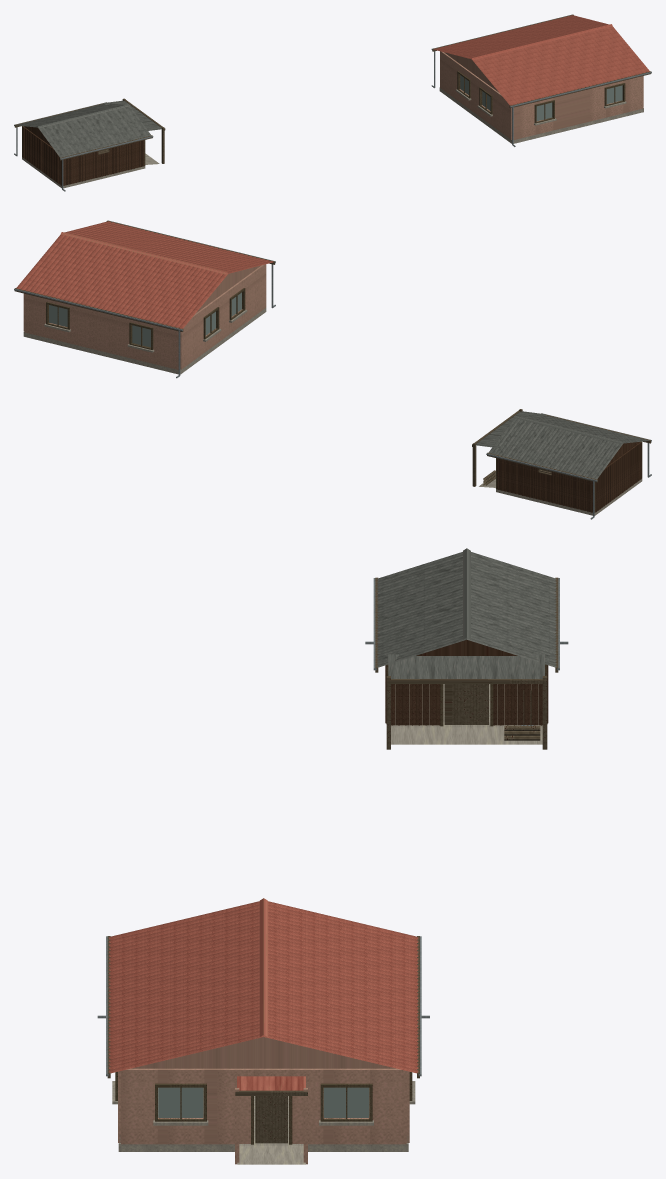
3 renders of one model, top to bottom at view 1: azimuth 30°, elevation 25°; view 2: azimuth 150°, elevation 25°; view 3: azimuth 270°, elevation 25°, orthographic. The views are drawn at different scales.
Visible parts, largest first — view 1: H09_TELHAS, H09_GALPAO_CHAPAS_ONDULADAS, H09_LATERAIS, H09_FUNDOS, H09_GALPAO_LATERAIS, H09_GALPAO_MATA_JUNTAS, H09_GALPAO_FUNDOS, H09_FUNDACAO, H09_VIDROS_RECUADOS, H09_CAIXILHOS, H09_BEIRAIS, H09_CALHA (+5 smaller); view 2: H09_TELHAS, H09_GALPAO_CHAPAS_ONDULADAS, H09_LATERAIS, H09_FUNDOS, H09_GALPAO_LATERAIS, H09_GALPAO_MATA_JUNTAS, H09_GALPAO_FUNDOS, H09_FUNDACAO, H09_VIDROS_RECUADOS, H09_CAIXILHOS, H09_BEIRAIS, H09_OITOES (+5 smaller); view 3: H09_TELHAS, H09_GALPAO_CHAPAS_ONDULADAS, H09_FACHADA, H09_OITOES, H09_GALPAO_FACHADA, H09_GALPAO_ALPENDRE_COBERTURA, H09_VIDROS_RECUADOS, H09_GALPAO_RAMPA, H09_FUNDACAO, H09_GALPAO_PORTA_FOLHA, H09_PORTA_FOLHA, H09_CAIXILHOS (+5 smaller).
Boxes of the visible parts, x1=… form: H09_TELHAS: x1=433, y1=15, x2=649, y2=105; H09_GALPAO_CHAPAS_ONDULADAS: x1=16, y1=103, x2=151, y2=157; H09_LATERAIS: x1=513, y1=76, x2=643, y2=139; H09_FUNDOS: x1=440, y1=51, x2=511, y2=139; H09_GALPAO_LATERAIS: x1=63, y1=140, x2=144, y2=185; H09_GALPAO_MATA_JUNTAS: x1=22, y1=127, x2=143, y2=185; H09_GALPAO_FUNDOS: x1=22, y1=126, x2=61, y2=185; H09_FUNDACAO: x1=439, y1=87, x2=643, y2=143; H09_VIDROS_RECUADOS: x1=460, y1=75, x2=622, y2=121; H09_CAIXILHOS: x1=457, y1=71, x2=625, y2=123; H09_BEIRAIS: x1=432, y1=14, x2=651, y2=108; H09_CALHA: x1=431, y1=14, x2=651, y2=107; H09_TELHAS: x1=16, y1=221, x2=273, y2=328; H09_GALPAO_CHAPAS_ONDULADAS: x1=488, y1=414, x2=649, y2=479; H09_LATERAIS: x1=24, y1=293, x2=178, y2=369; H09_FUNDOS: x1=180, y1=264, x2=266, y2=369; H09_GALPAO_LATERAIS: x1=497, y1=458, x2=592, y2=512; H09_GALPAO_MATA_JUNTAS: x1=498, y1=443, x2=641, y2=512; H09_GALPAO_FUNDOS: x1=595, y1=442, x2=641, y2=512; H09_FUNDACAO: x1=23, y1=308, x2=266, y2=374; H09_VIDROS_RECUADOS: x1=49, y1=292, x2=241, y2=347; H09_CAIXILHOS: x1=46, y1=288, x2=245, y2=350; H09_BEIRAIS: x1=14, y1=220, x2=275, y2=331; H09_OITOES: x1=196, y1=265, x2=260, y2=312; H09_TELHAS: x1=109, y1=901, x2=418, y2=1073; H09_GALPAO_CHAPAS_ONDULADAS: x1=377, y1=552, x2=556, y2=667; H09_FACHADA: x1=121, y1=1068, x2=406, y2=1144; H09_OITOES: x1=132, y1=1037, x2=395, y2=1068; H09_GALPAO_FACHADA: x1=391, y1=684, x2=542, y2=725; H09_GALPAO_ALPENDRE_COBERTURA: x1=388, y1=654, x2=544, y2=678; H09_VIDROS_RECUADOS: x1=158, y1=1087, x2=368, y2=1117; H09_GALPAO_RAMPA: x1=391, y1=727, x2=542, y2=744; H09_FUNDACAO: x1=118, y1=1088, x2=408, y2=1151; H09_GALPAO_PORTA_FOLHA: x1=444, y1=684, x2=488, y2=724; H09_PORTA_FOLHA: x1=255, y1=1096, x2=287, y2=1143; H09_CAIXILHOS: x1=115, y1=1072, x2=412, y2=1121.
Bounding box in the file's own units: 39.43 × 4.28 × 15.07.
Materials: 10 (9 with a texture image).
